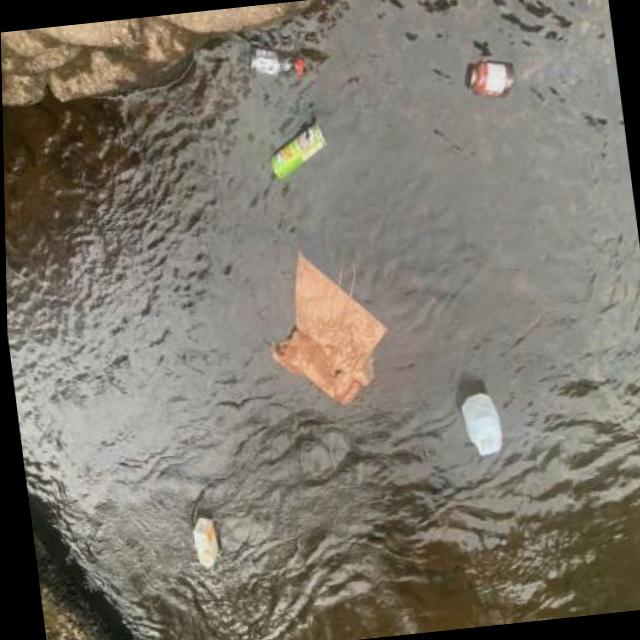Bottle-Glass: (457, 48, 519, 106)
Can-Metal: (255, 114, 336, 183)
Cardboard: (181, 508, 224, 571)
Paper: (248, 236, 398, 422)
Plastic: (451, 384, 510, 469), (240, 32, 308, 84)
